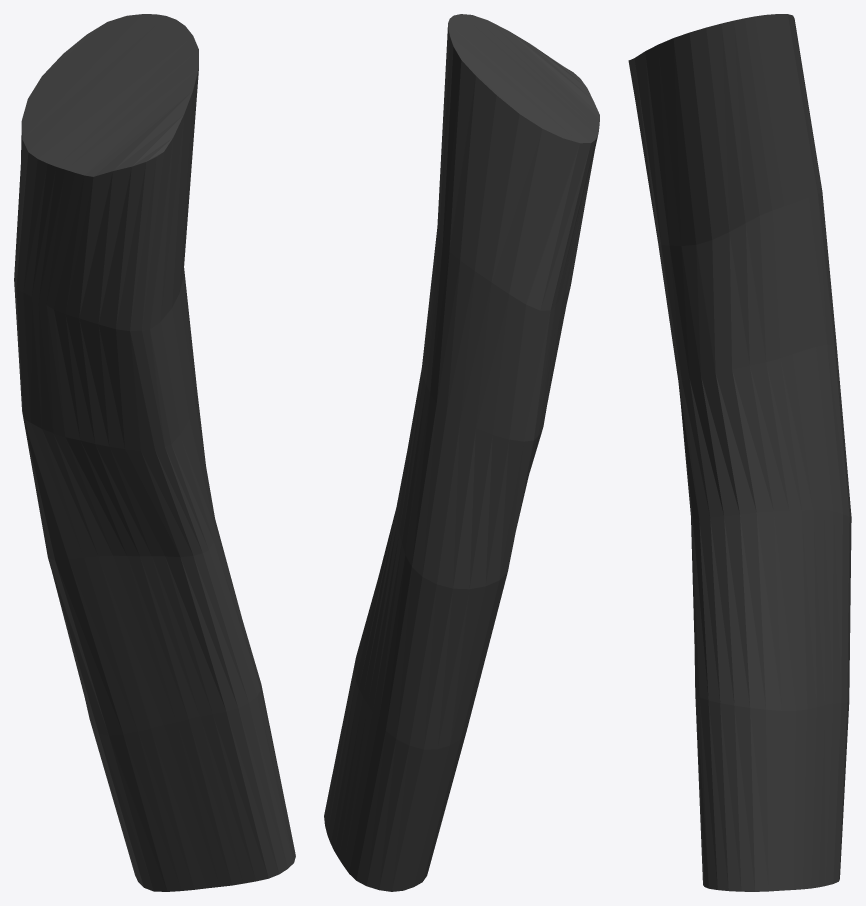
Rendered from N_5_trigeminus_mandibular.glb.
3 views of the same model, side by side, from view 1: azimuth 30°, elevation 25°; view 2: azimuth 150°, elevation 25°; view 3: azimuth 270°, elevation 25° (orthographic). The views are drawn at different scales.
Visible parts, largest first — view 1: N_5_trigeminus_mandibular; view 2: N_5_trigeminus_mandibular; view 3: N_5_trigeminus_mandibular.
Part boxes in pixels (<box>): N_5_trigeminus_mandibular: <box>14,14,295,891</box>; N_5_trigeminus_mandibular: <box>324,14,599,891</box>; N_5_trigeminus_mandibular: <box>628,14,851,891</box>.
Bounding box in the file's own units: 0.00191 × 0.00607 × 0.00145.
1 material, 1 textured.
